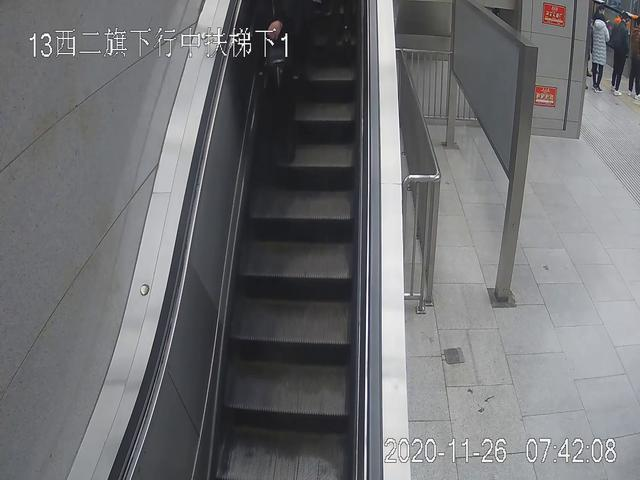person: (610, 13, 628, 97), (590, 12, 607, 92)
